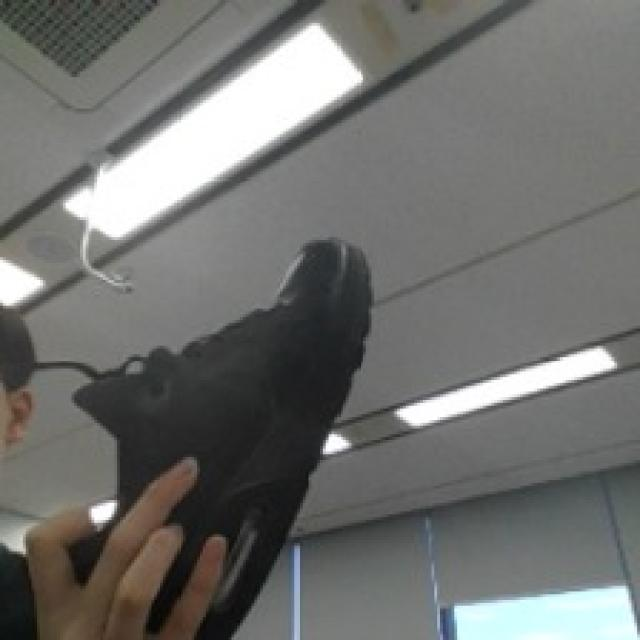shoe: (69, 238, 372, 637)
